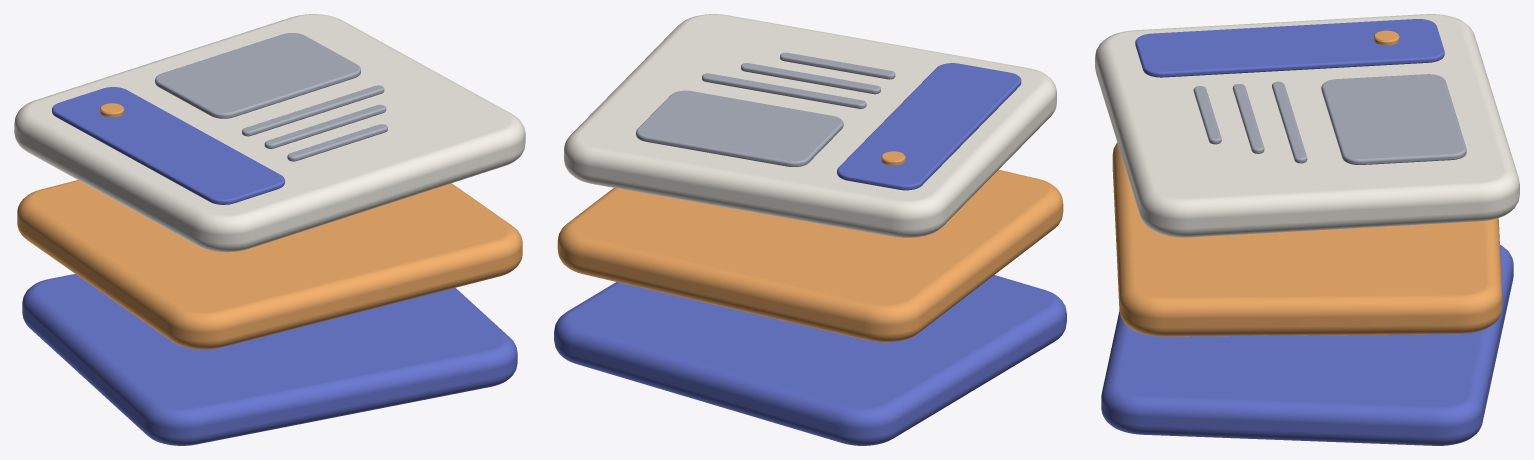
Rendered from layers.glb.
The picture shows the model from 3 angles, left to right: view 1: azimuth 30°, elevation 25°; view 2: azimuth 150°, elevation 25°; view 3: azimuth 270°, elevation 25°; orthographic projection. The views are drawn at different scales.
Visible parts, largest first — view 1: layers; view 2: layers; view 3: layers.
Part boxes in pixels (x1,y1,x2,y2): layers: (14, 14, 525, 445); layers: (554, 14, 1066, 445); layers: (1095, 14, 1519, 445).
Bounding box in the file's own units: 2 × 1.22 × 1.83.
